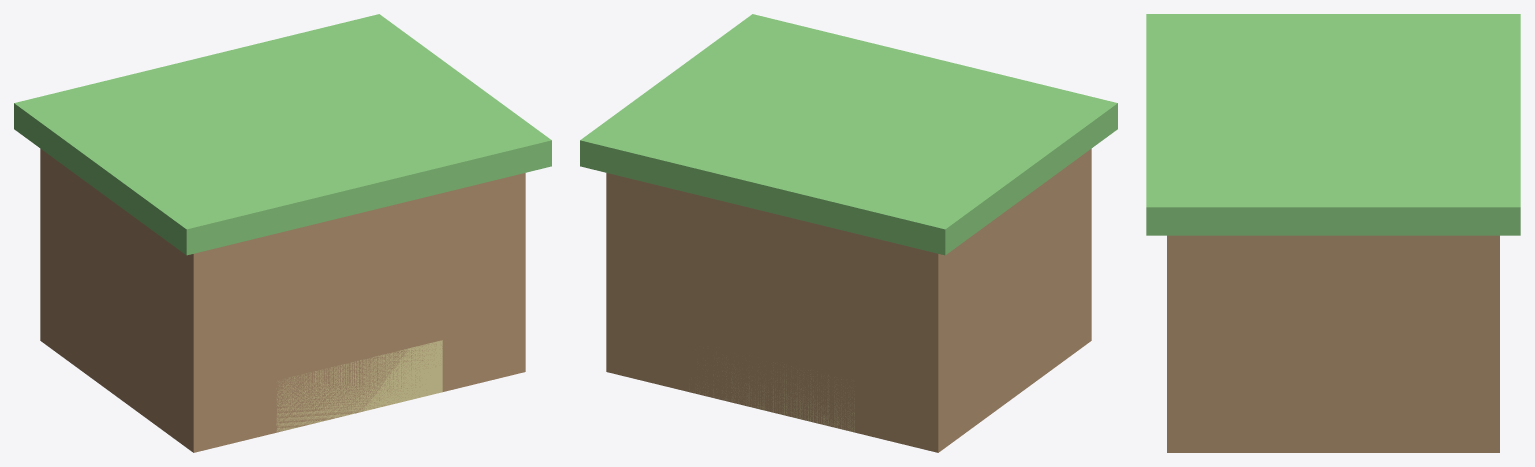
The model's file is Prop_Live_AMF_GoatShelter_V10.glb.
3 renders of one model, left to right at view 1: azimuth 30°, elevation 25°; view 2: azimuth 150°, elevation 25°; view 3: azimuth 270°, elevation 25°, orthographic. The views are drawn at different scales.
Parts seen in each view (by area): view 1: Prop_Live_AMF_GoatShelter_V10; view 2: Prop_Live_AMF_GoatShelter_V10; view 3: Prop_Live_AMF_GoatShelter_V10.
Boxes of the visible parts, left/top/right/bottom form: Prop_Live_AMF_GoatShelter_V10: left=14, top=14, right=551, bottom=452; Prop_Live_AMF_GoatShelter_V10: left=580, top=14, right=1117, bottom=452; Prop_Live_AMF_GoatShelter_V10: left=1146, top=14, right=1520, bottom=452.
Size of the model in its own units: 2.2 by 1.35 by 1.8.
